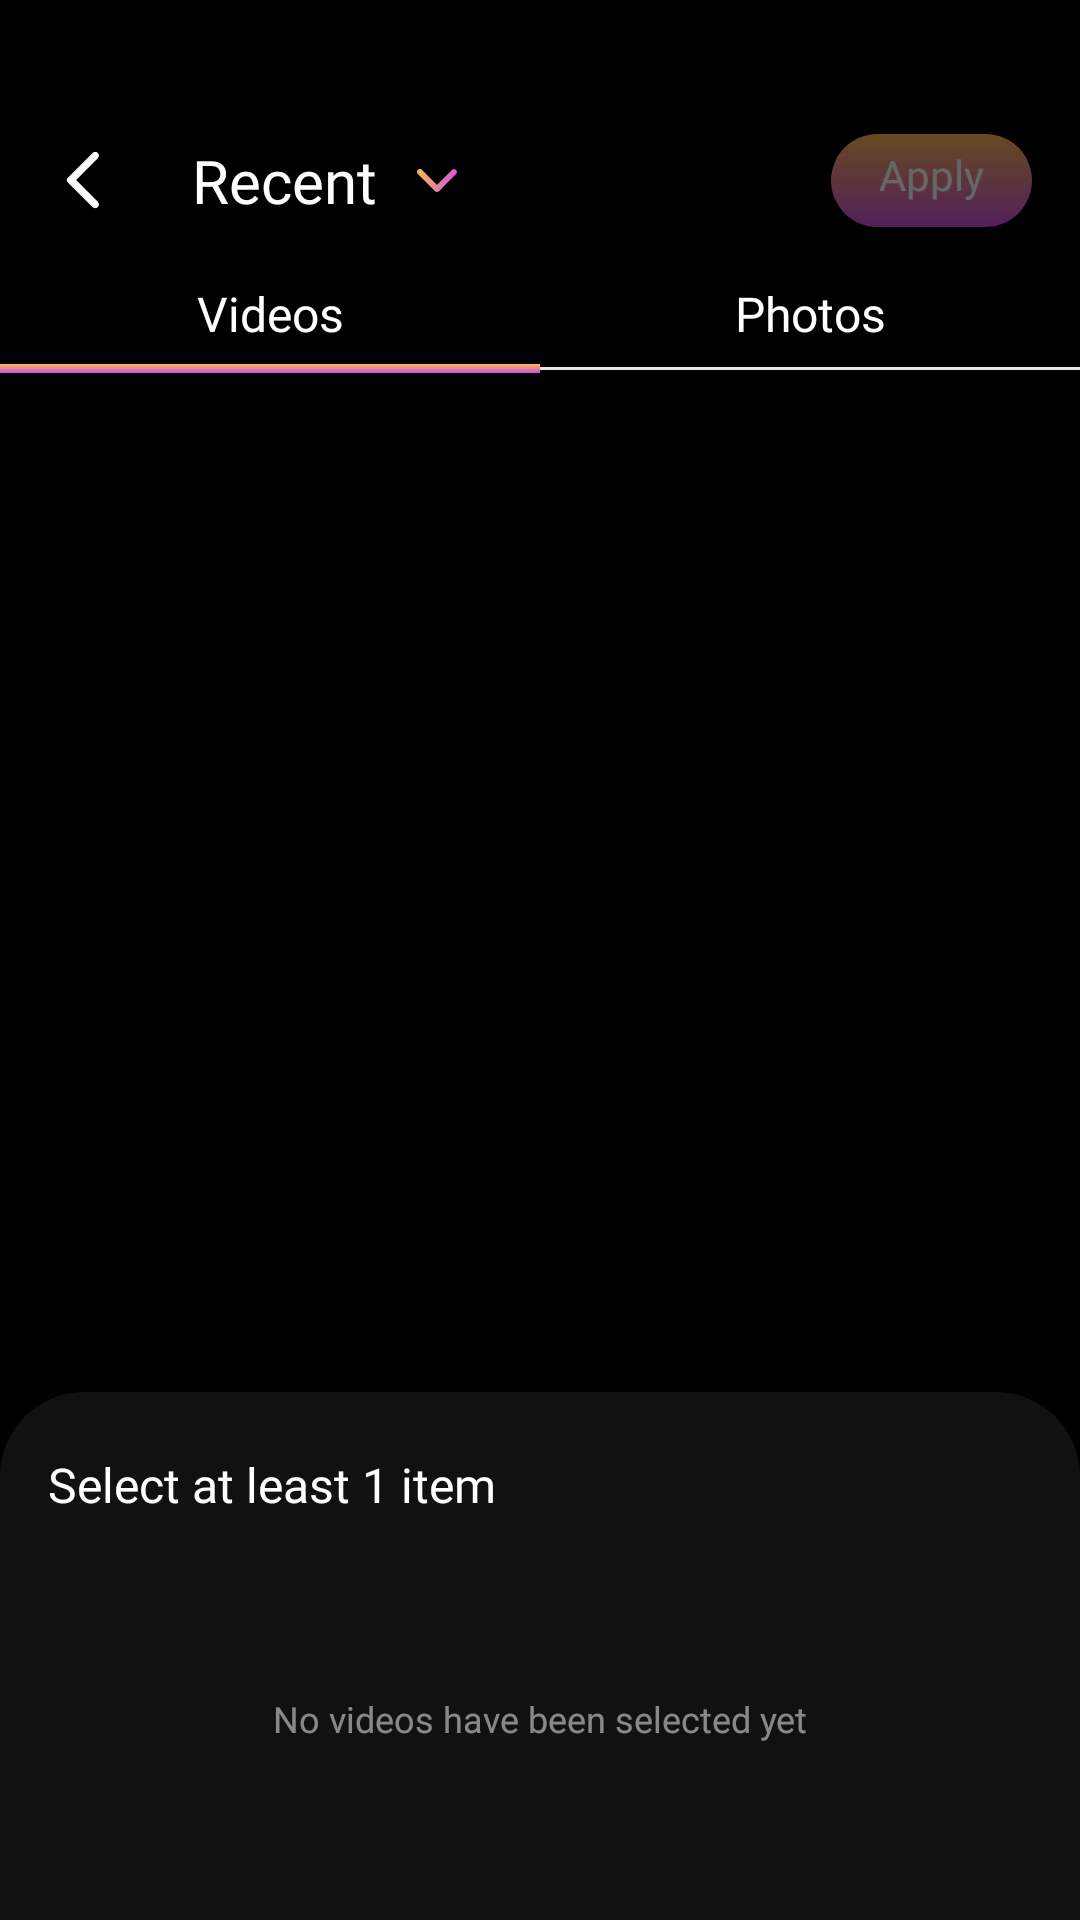

Point at icon controls on the screen. Image size 1080x1920, points as [x,y].
arrow down: [437,180]
back: [82,180]
